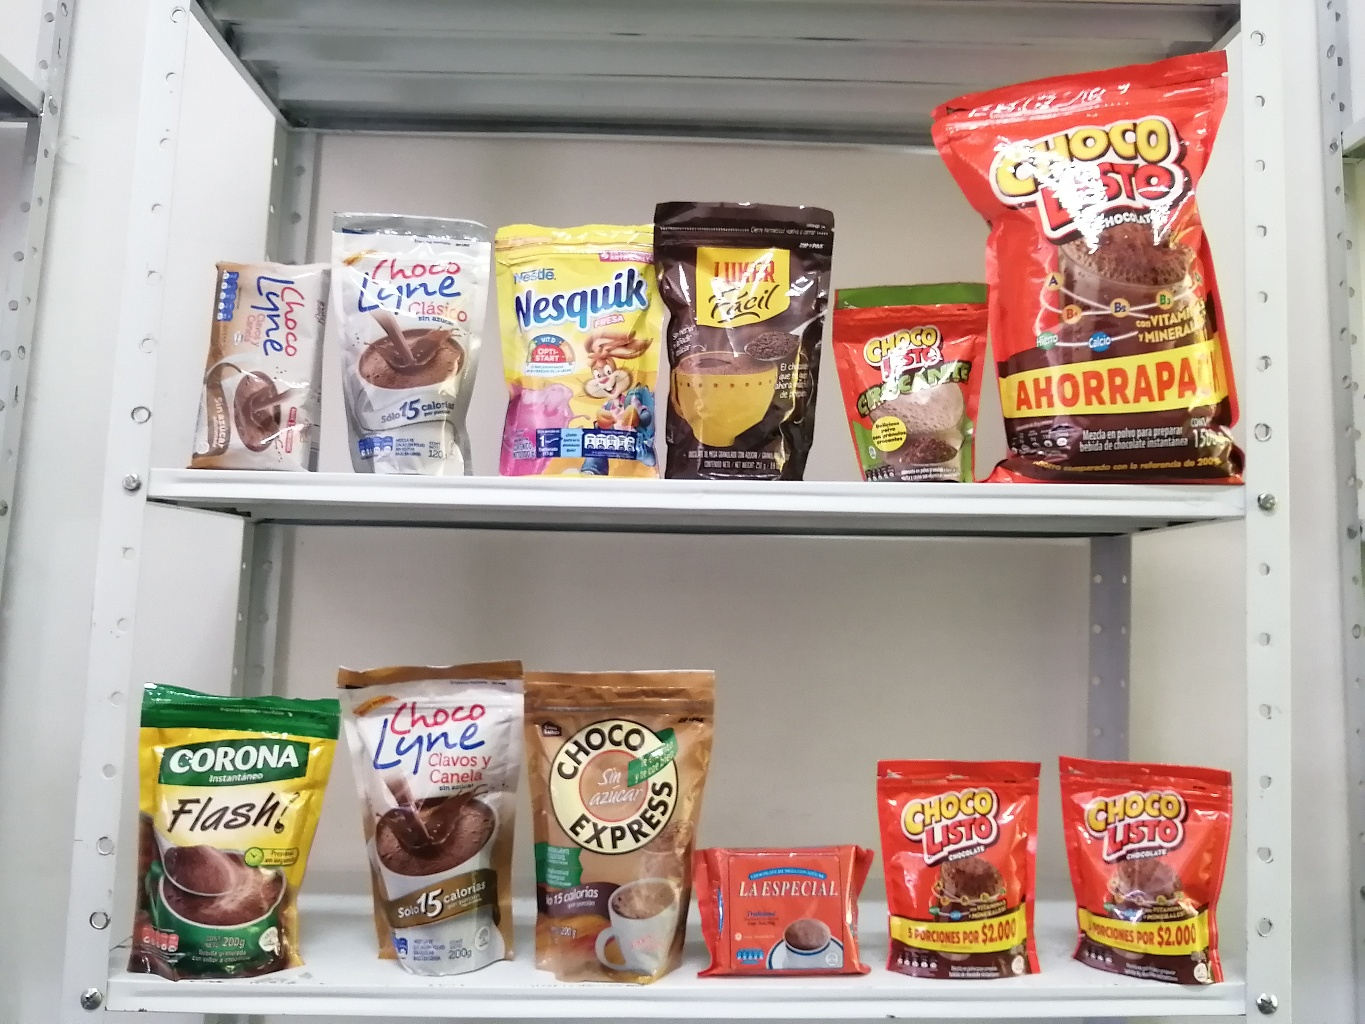COL0170102DYP10000: (804, 260, 1005, 487)
COL0170103DYP1,500: (913, 22, 1263, 490)
COL0170305DYP20000: (474, 210, 686, 487)
